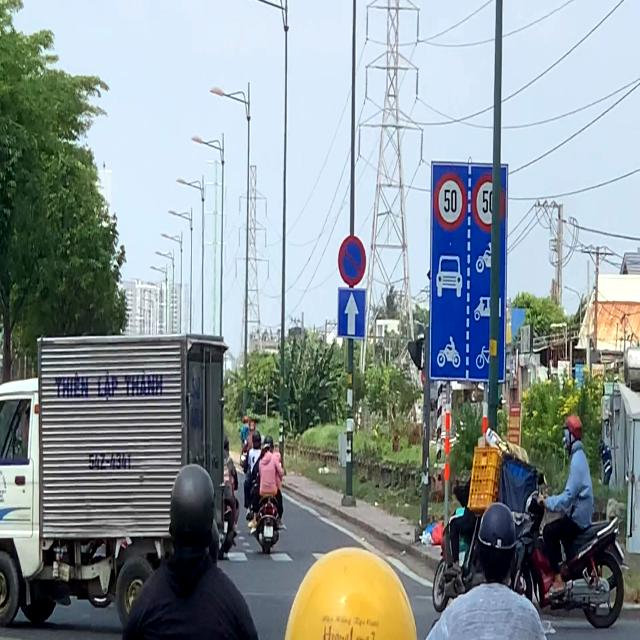P.127: (434, 172, 467, 232), (472, 174, 505, 233)
P.131a: (338, 235, 366, 286)
R.407a: (337, 287, 366, 339)
